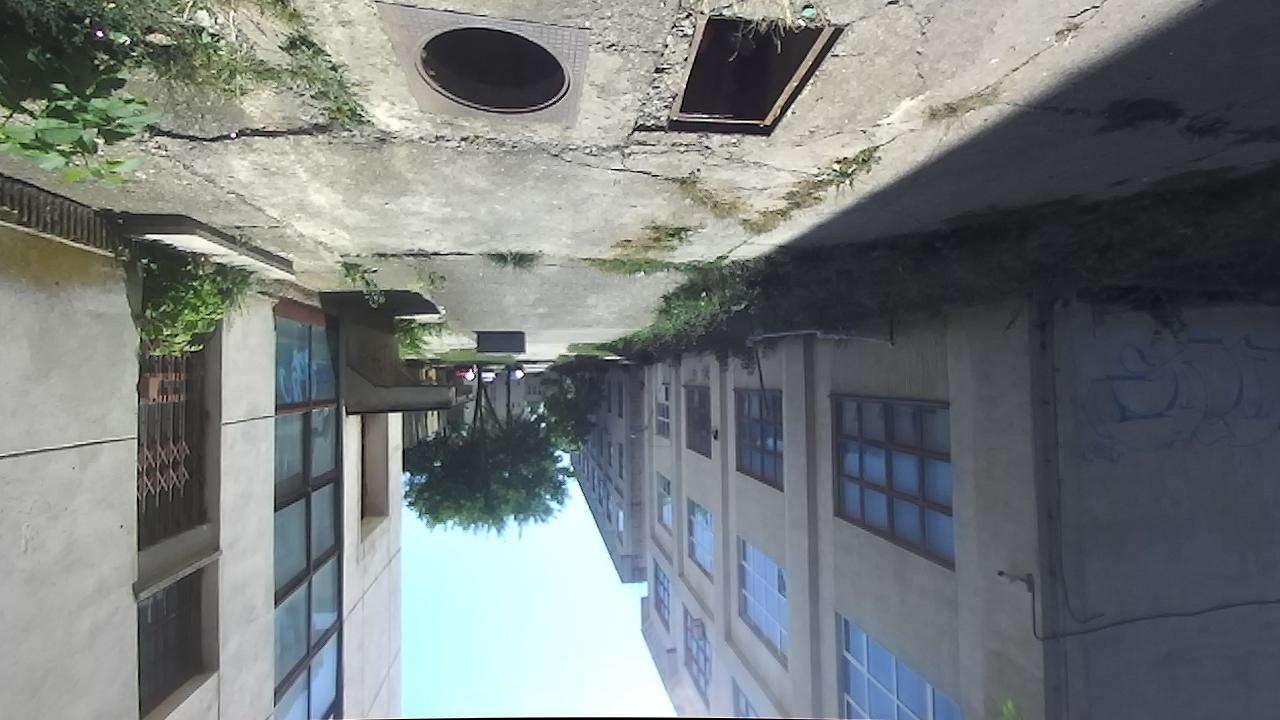drain: (665, 17, 858, 141), (410, 21, 575, 119)
